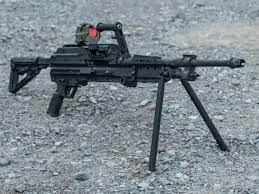larga: (9, 22, 247, 173)
